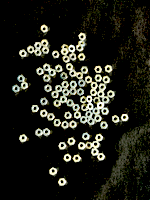nut: (58, 178, 67, 187), (95, 134, 104, 142), (43, 128, 51, 137), (112, 115, 120, 124), (102, 76, 111, 84), (49, 168, 57, 176), (64, 154, 72, 162), (91, 149, 99, 157), (85, 142, 93, 150), (82, 133, 90, 141), (68, 138, 76, 146), (35, 129, 43, 137), (19, 135, 27, 143), (121, 114, 129, 122), (31, 105, 39, 113), (53, 119, 61, 127), (61, 121, 69, 129), (80, 116, 88, 124), (87, 118, 95, 126), (94, 115, 102, 123), (64, 112, 72, 120), (85, 111, 93, 119), (72, 104, 80, 112), (51, 91, 59, 99), (69, 88, 77, 96), (55, 85, 63, 93), (44, 85, 52, 93), (61, 81, 69, 89), (85, 76, 93, 84), (105, 65, 113, 73), (60, 72, 68, 80), (48, 69, 56, 77), (12, 85, 20, 93), (17, 75, 25, 83), (43, 64, 51, 72), (55, 65, 63, 73), (78, 33, 86, 41), (68, 45, 76, 53), (19, 50, 27, 58), (27, 46, 35, 54), (73, 156, 82, 163), (58, 143, 67, 150), (94, 66, 103, 73), (42, 75, 51, 82), (97, 154, 105, 161), (93, 141, 100, 149), (78, 143, 86, 150), (100, 122, 108, 129), (40, 110, 48, 117), (47, 114, 55, 121), (70, 121, 77, 129), (40, 98, 48, 105), (101, 108, 109, 115), (54, 100, 61, 108), (60, 96, 67, 104), (97, 102, 104, 110), (87, 103, 94, 111), (81, 104, 88, 112), (66, 100, 74, 107), (80, 96, 87, 104), (93, 97, 101, 104), (102, 97, 110, 104), (107, 91, 115, 98), (97, 91, 105, 98), (90, 89, 98, 96), (77, 88, 84, 96), (62, 89, 70, 96), (99, 84, 107, 91), (69, 81, 77, 88), (78, 80, 86, 87), (95, 75, 103, 82), (81, 67, 89, 74), (76, 72, 83, 80), (69, 70, 77, 77), (21, 82, 28, 90), (37, 68, 44, 76), (66, 64, 74, 71), (62, 56, 70, 63), (70, 53, 77, 61), (78, 54, 86, 61), (62, 44, 69, 52), (52, 51, 60, 58), (42, 47, 50, 54), (34, 49, 42, 56), (41, 25, 48, 33), (34, 42, 42, 49), (41, 40, 49, 47), (74, 112, 81, 119), (93, 108, 100, 115), (86, 96, 93, 103), (91, 82, 98, 89), (77, 45, 84, 52), (61, 49, 69, 55), (79, 41, 86, 47)
